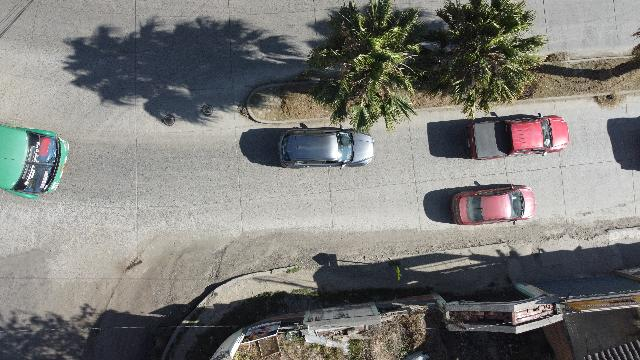Vehiculo: (466, 112, 568, 160), (278, 124, 374, 168), (451, 183, 535, 225)
